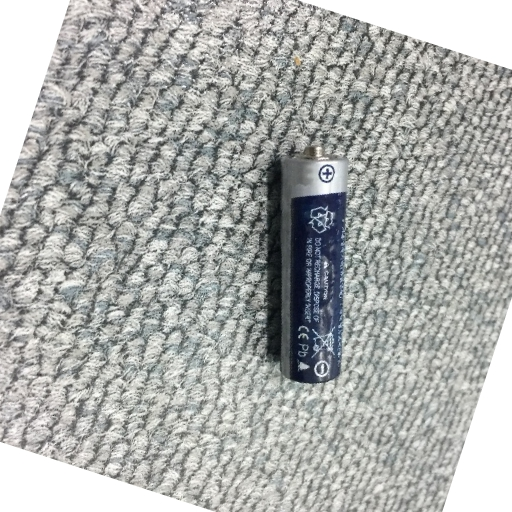Battery_0: (266, 137, 359, 401)
